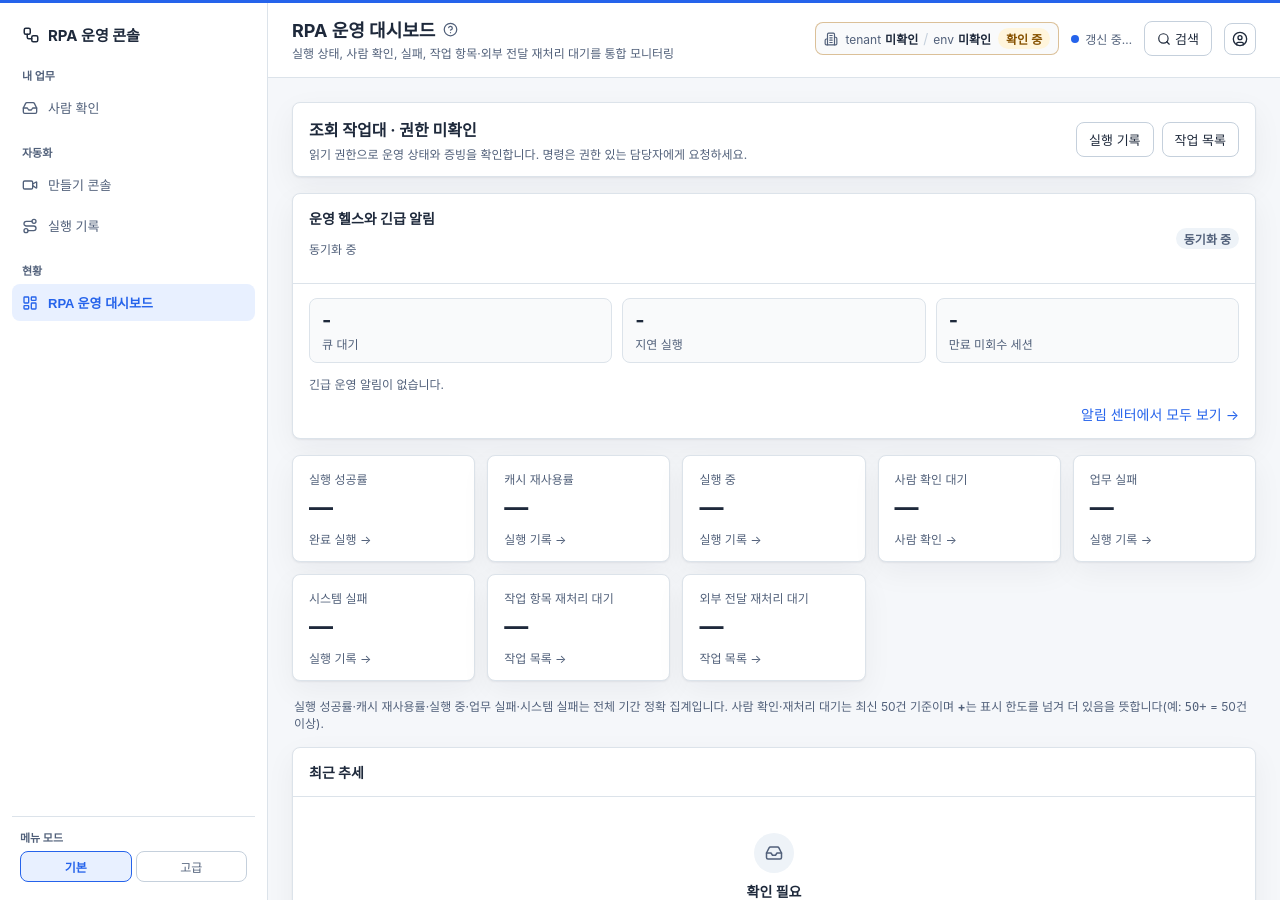
Test: UX quick-wins (A) › A6: roles 없는 토큰 → '권한 미확인'(빈 폴백)
The width and height of the screenshot is (1280, 900).
T1: 역할 칩은 상단바 직접 노출에서 계정 팝오버로 이동 — 팝오버를 열어 확인한다.
Click the button named "계정 메뉴".
click(1240, 38)  # box [1224,22,1256,54]
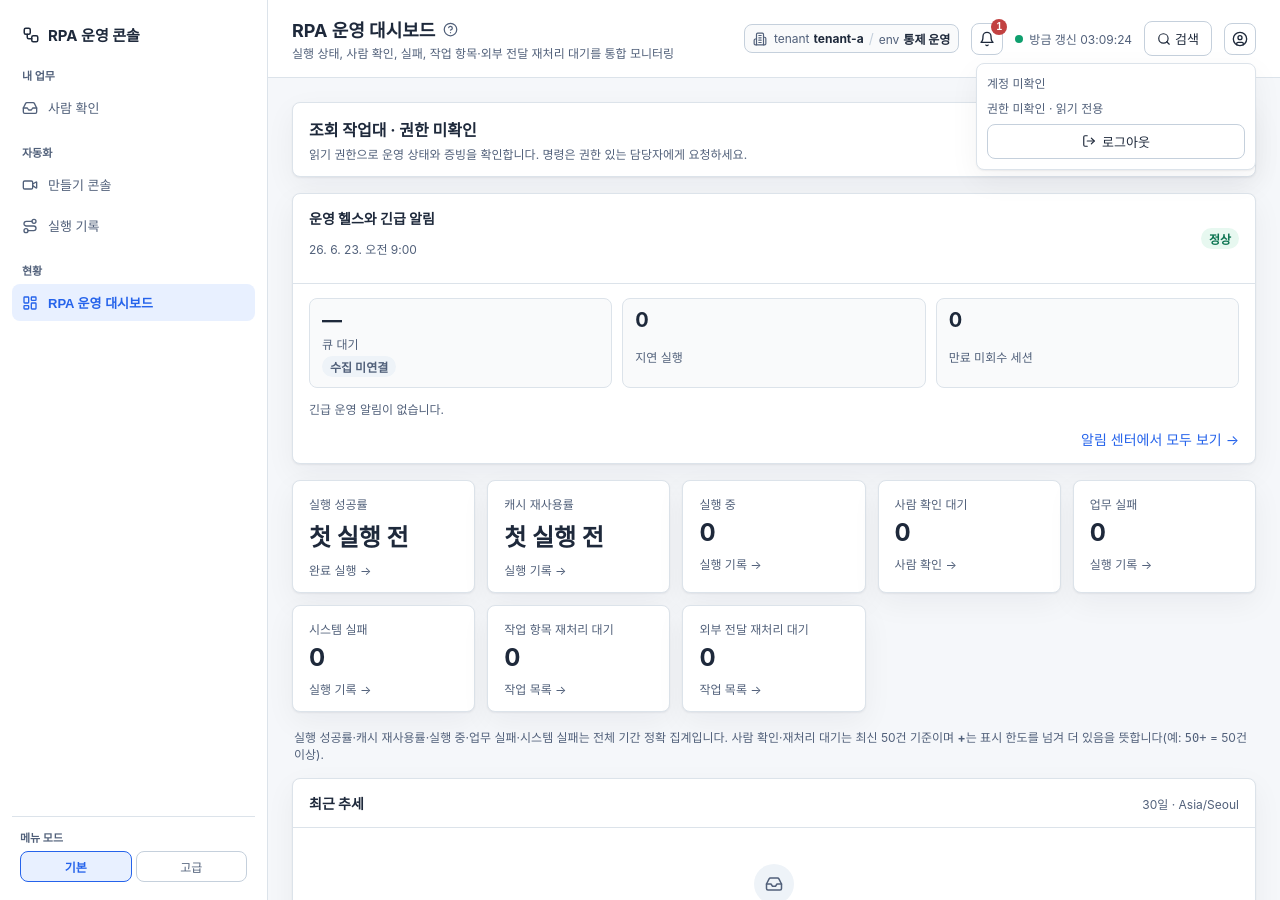
expect the text "권한 미확인 · 읽기 전용" is shown: met, box [987,100,1103,116]
